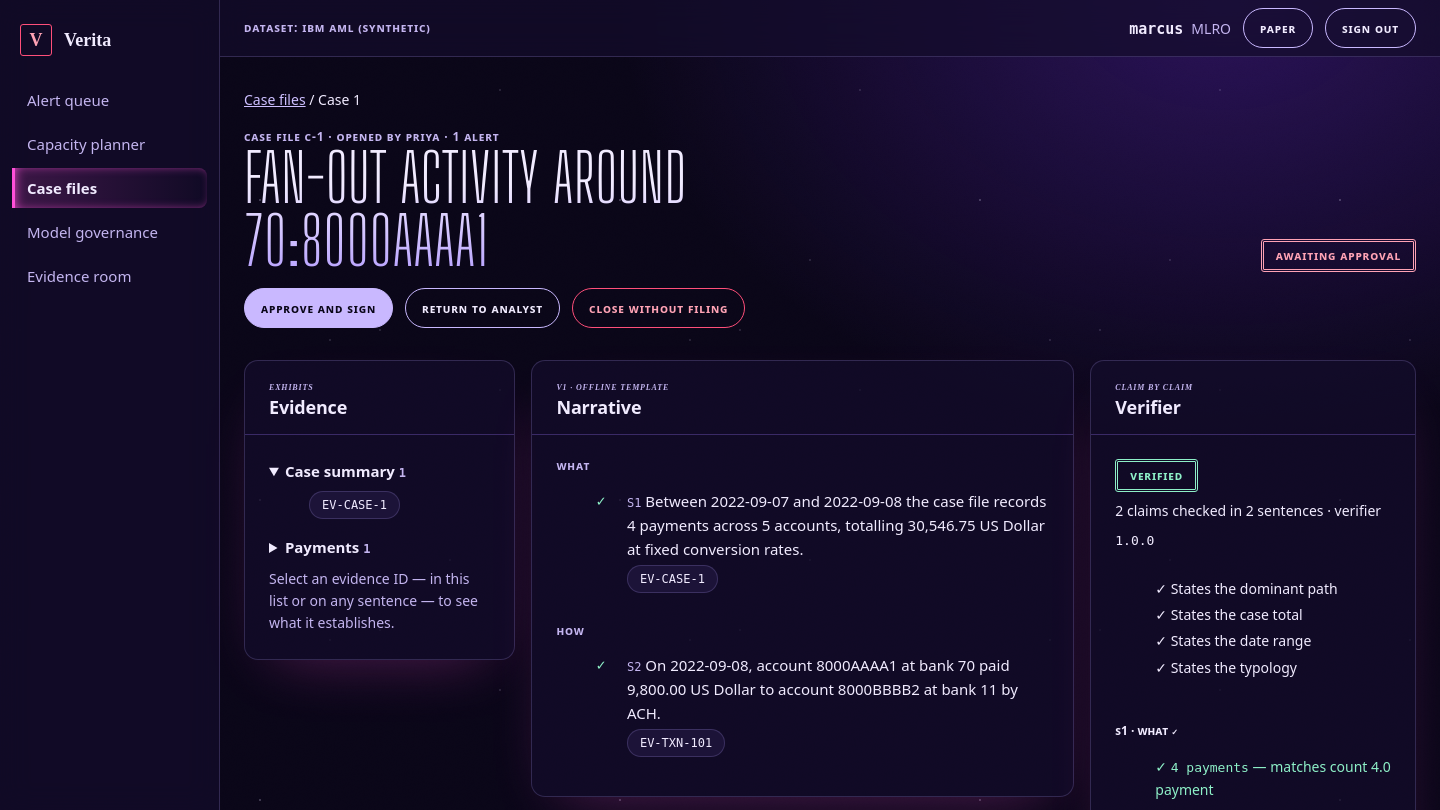
approves, signs and shows the seal with exports
This screenshot has width=1440, height=810.
Click the button "Approve and sign" at point(318, 308), box [244, 288, 393, 328]
(page scrolled)
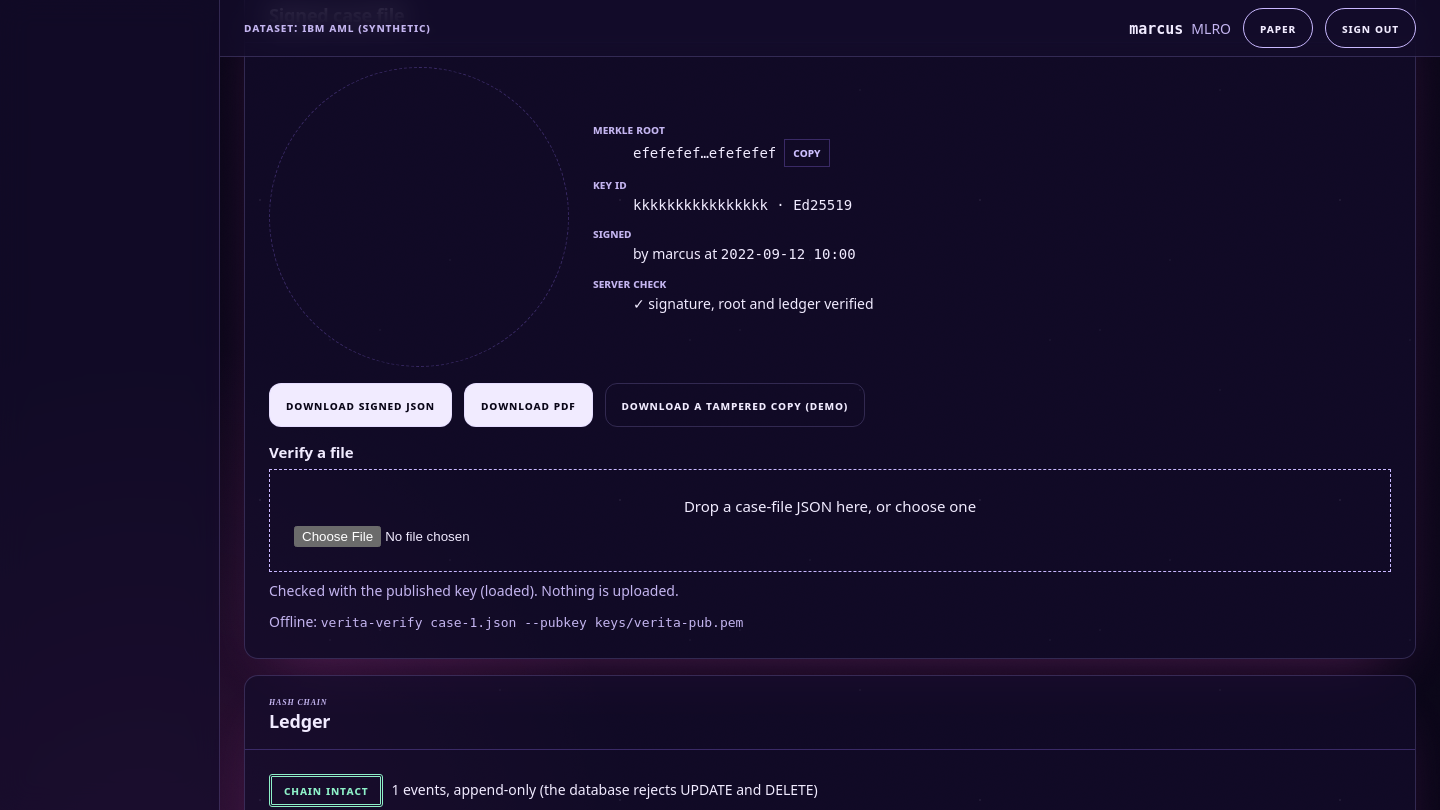
Now the heading "Signed case file" is shown, box [269, 5, 404, 26]
Now the text "✓ signature, root and ledger verified" is shown, box [633, 293, 874, 315]
